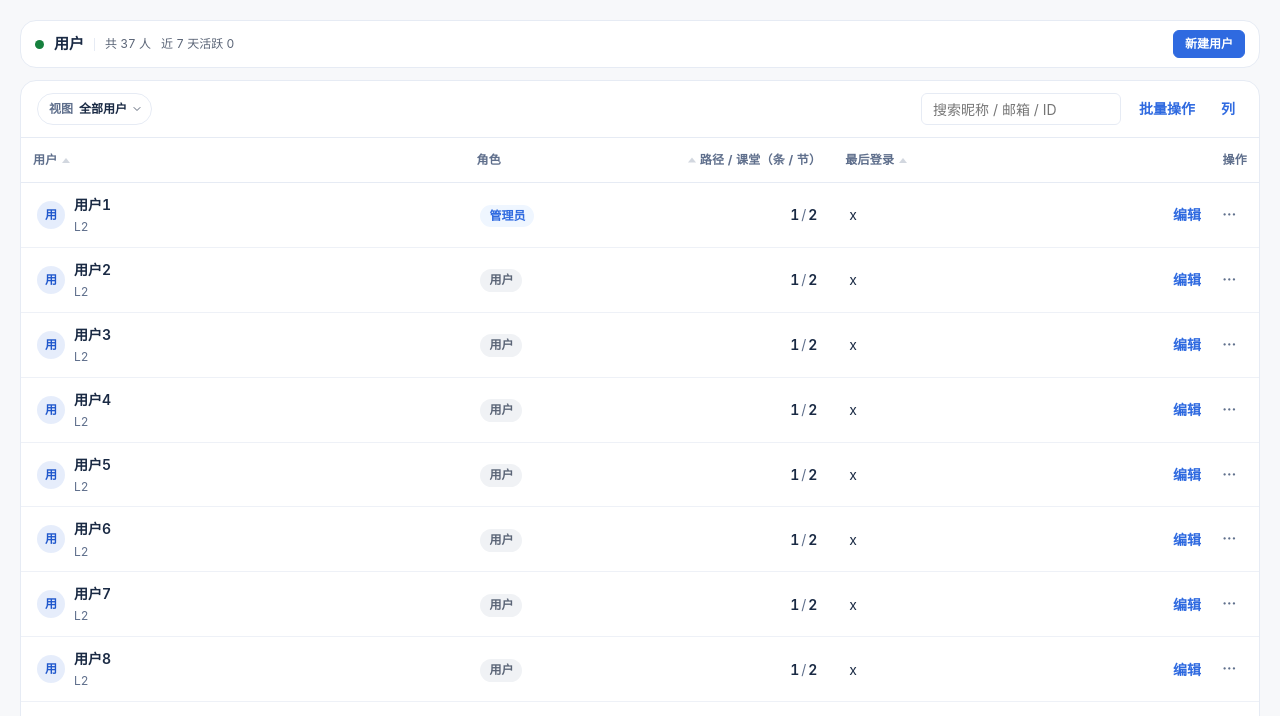
Users 客户端分页（mk-pagination） › 操作列「编辑」打开表单；⋯ 菜单不再有第二个「编辑」入口
⋯ 里只剩删除（改角色/改密回到行内）
Step 1. Click the button with class "mk-menu__btn" in the row of "管理员" → (1229, 215), box x1=1215 y1=201 x2=1243 y2=229
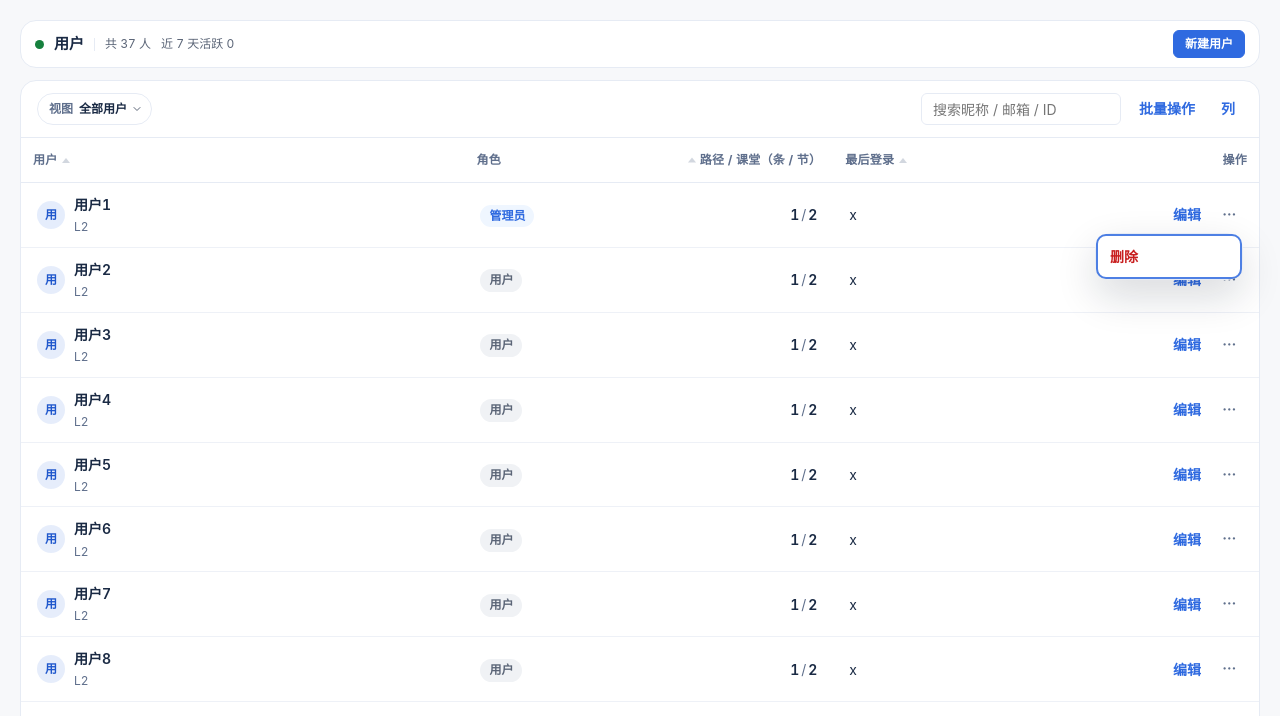
Expected: the elements with class "mk-menu__item" read "删除", in this order, x1=1100 y1=238 x2=1238 y2=275
